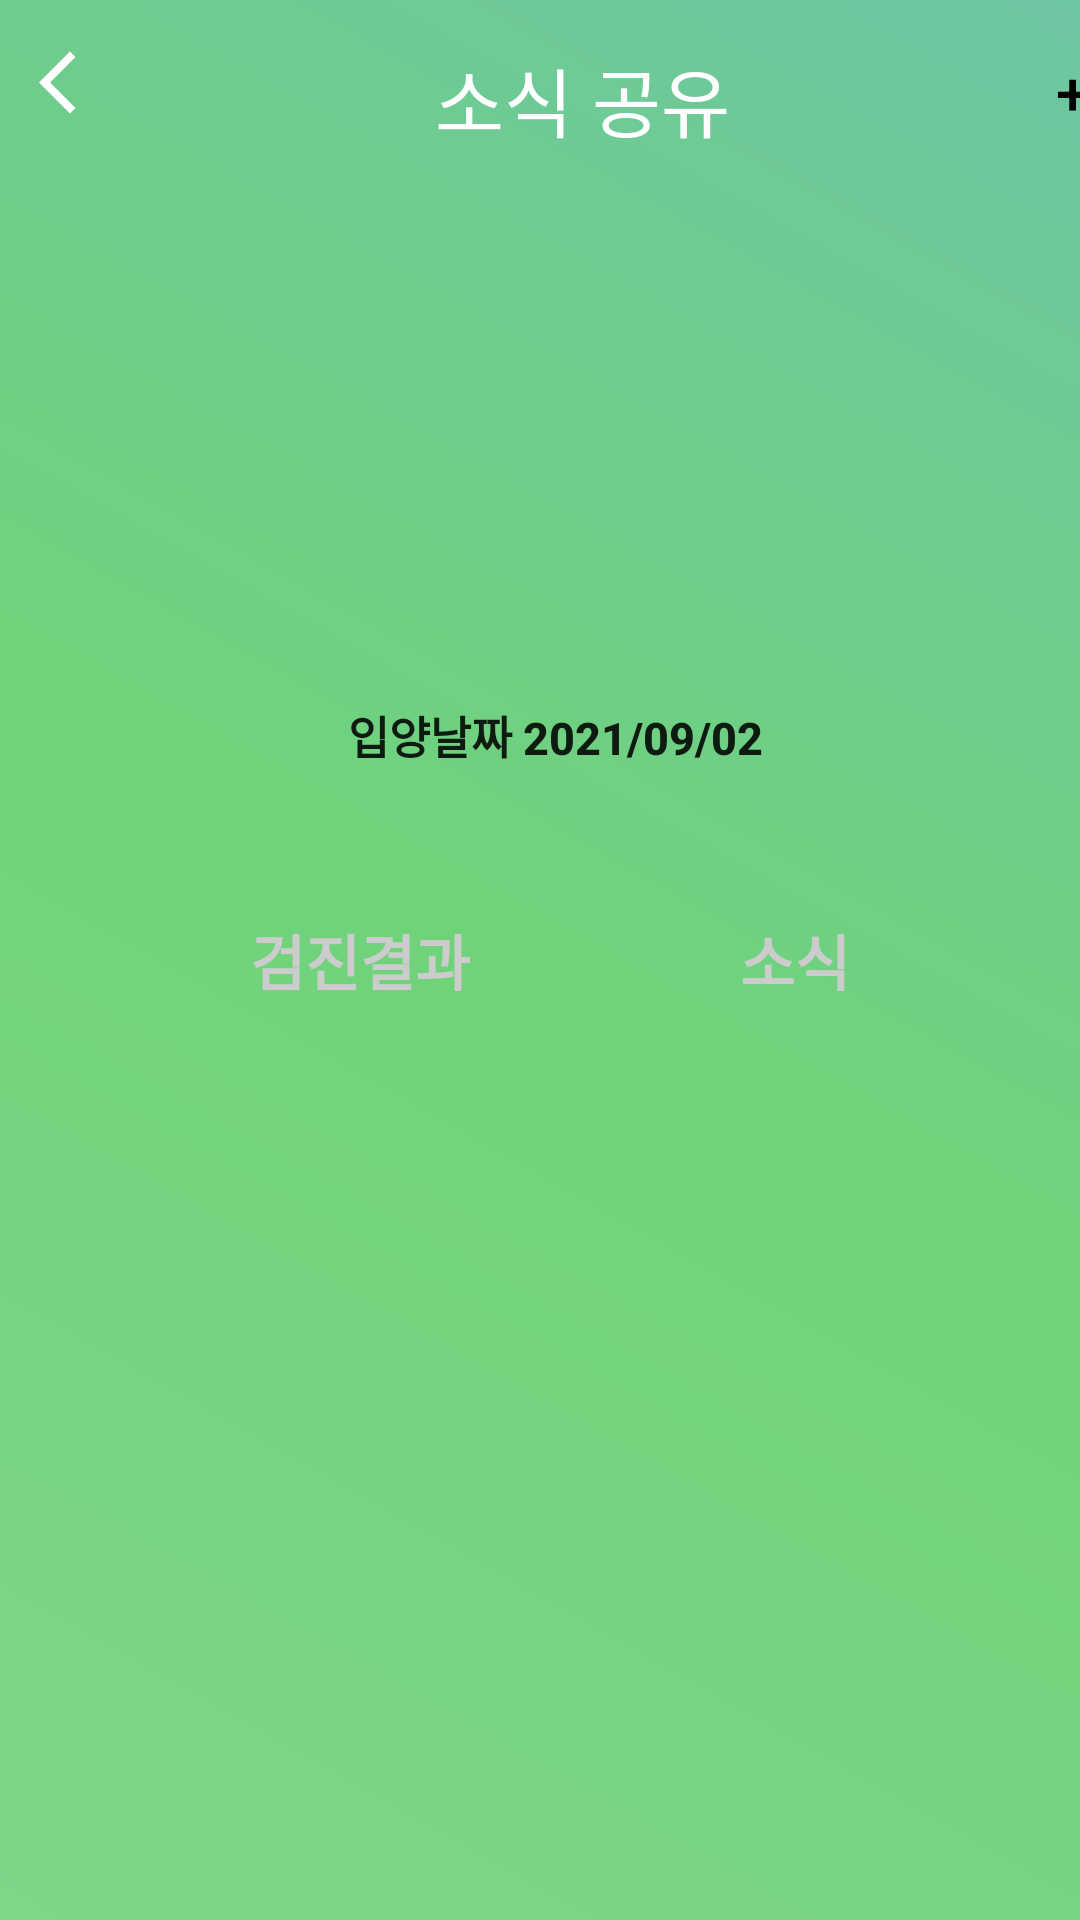

Screen size 1080 × 1920. Icon name, then its center in pixels as [x,y]:
arrow back: [57,82]
